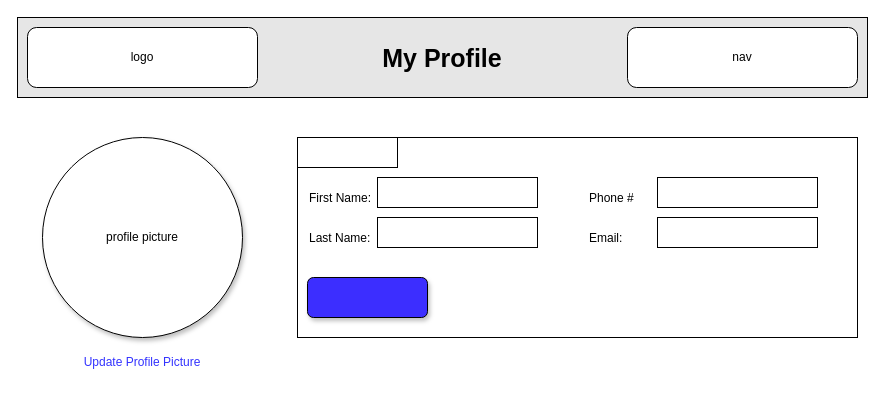
Some shapes in this 885 by 395 pixel diagram are drawn without their labels. The shapes that lost their labels are listed below. From the top down, each one's centre as x and y in pixels, then its label:
At pixel 347 152: "Personal Info".
At pixel 368 298: "Update".
